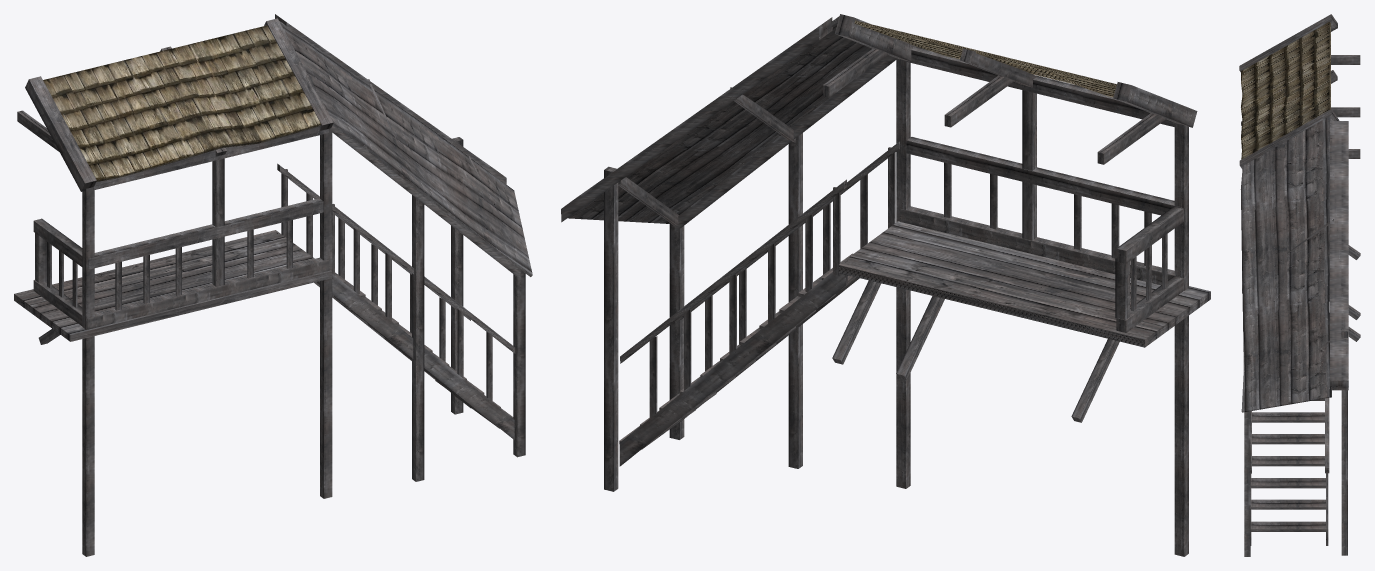
File: v3_stairs.dae
The picture shows the model from 3 angles, left to right: view 1: azimuth 30°, elevation 25°; view 2: azimuth 150°, elevation 25°; view 3: azimuth 270°, elevation 25°; orthographic projection. The views are drawn at different scales.
Parts seen in each view (by area): view 1: woodPlanks, roof_01; view 2: woodPlanks, roof_01; view 3: woodPlanks, roof_01.
Boxes of the visible parts, x1,y1,x2,y2 form: woodPlanks: (14,14,532,556); roof_01: (43,25,320,181); woodPlanks: (561,14,1210,556); roof_01: (854,20,1116,97); woodPlanks: (1239,14,1360,556); roof_01: (1241,21,1330,159).
Bounding box in the file's own units: 5.01 × 4.28 × 1.28.
